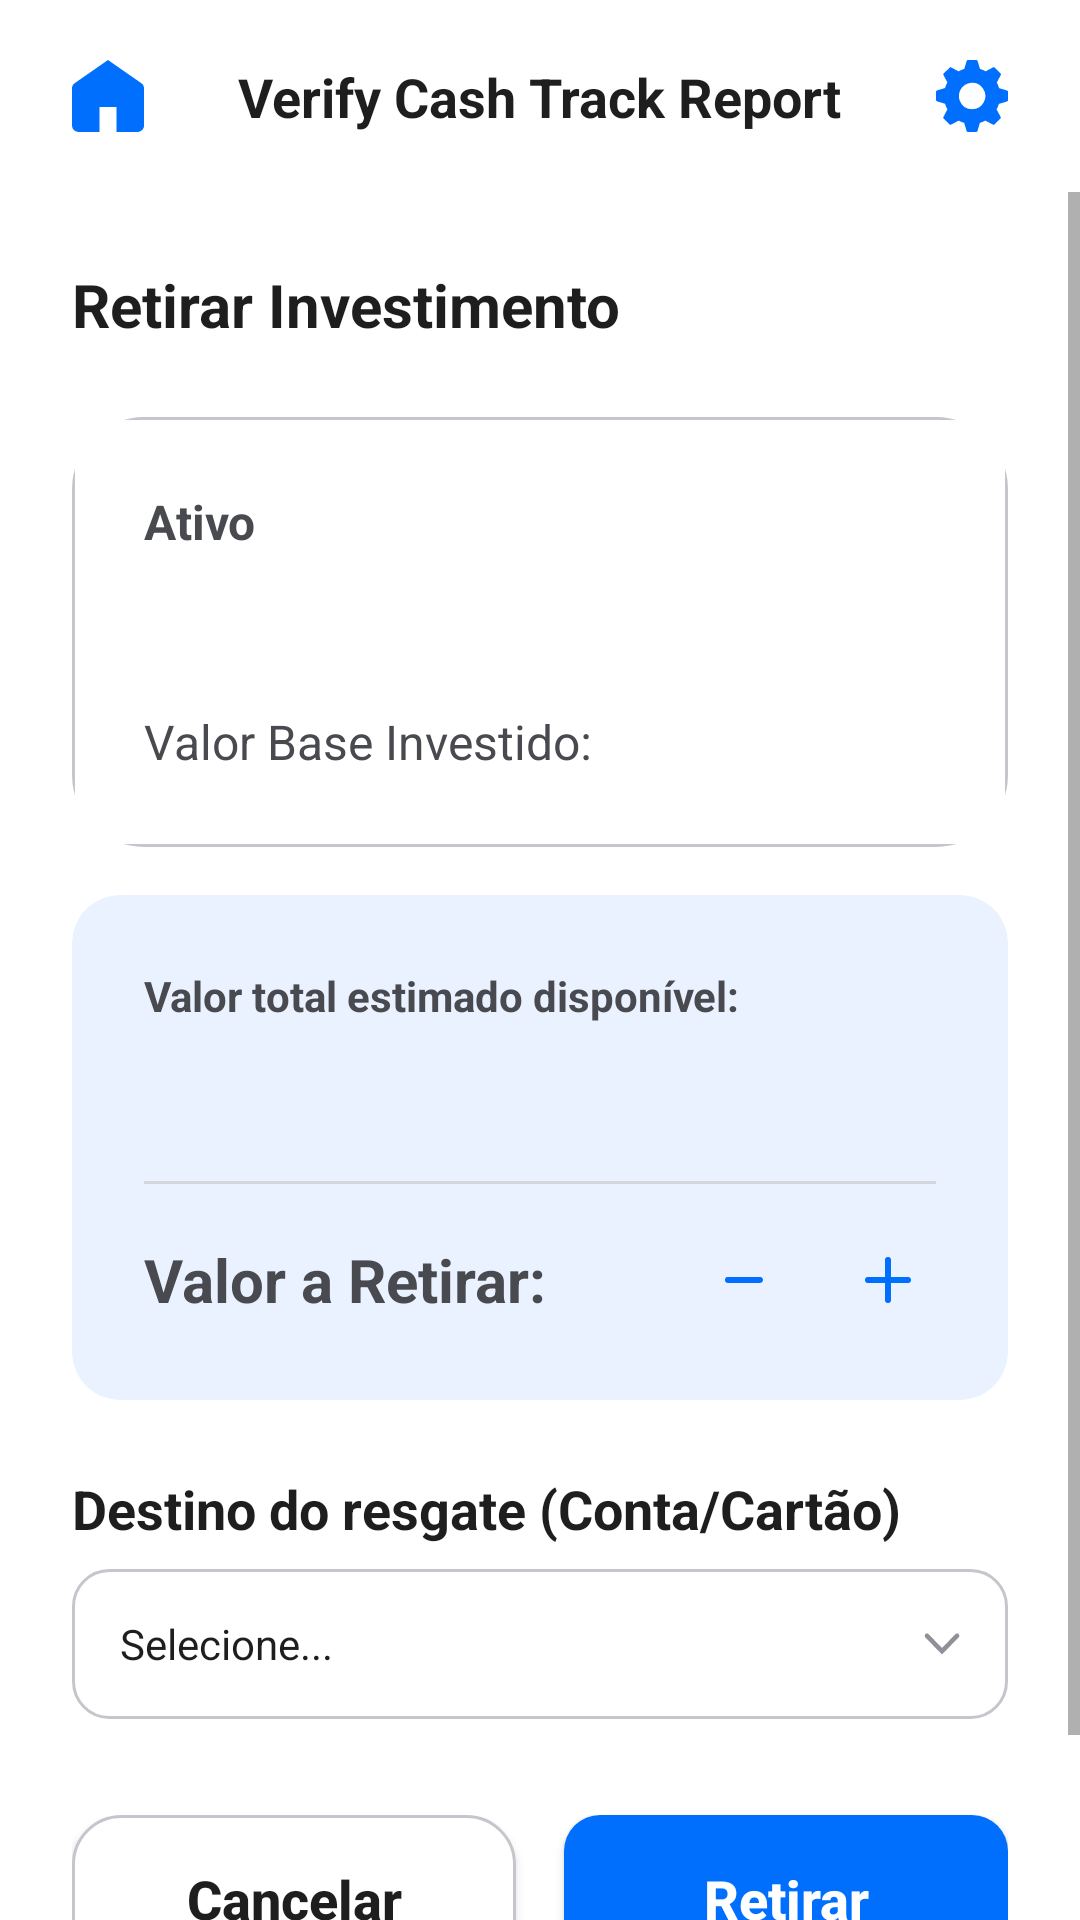

Named icons in this screenshot (1080 x 1920) and their bounding boxes, (x1, y1, x2, y2):
Configurações: (936, 60, 1008, 132)
Home: (72, 60, 144, 132)
plus: (865, 1257, 911, 1303)
